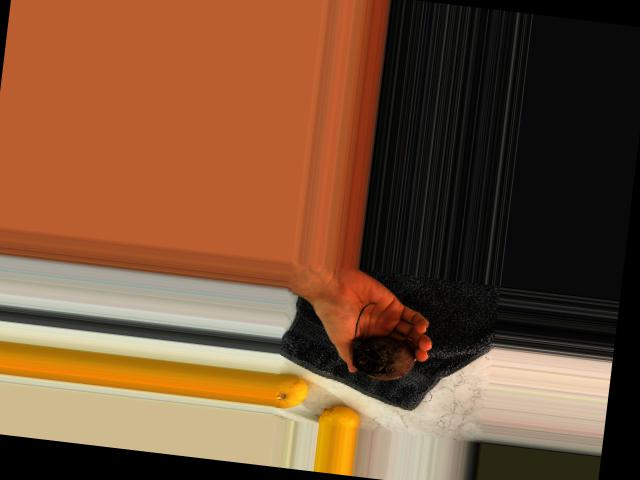beet: (351, 301, 422, 383)
